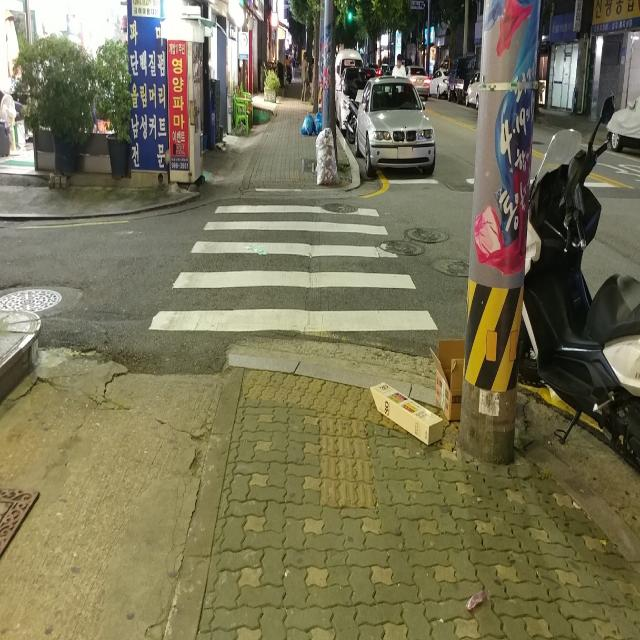횡단보도: (147, 202, 440, 334)
